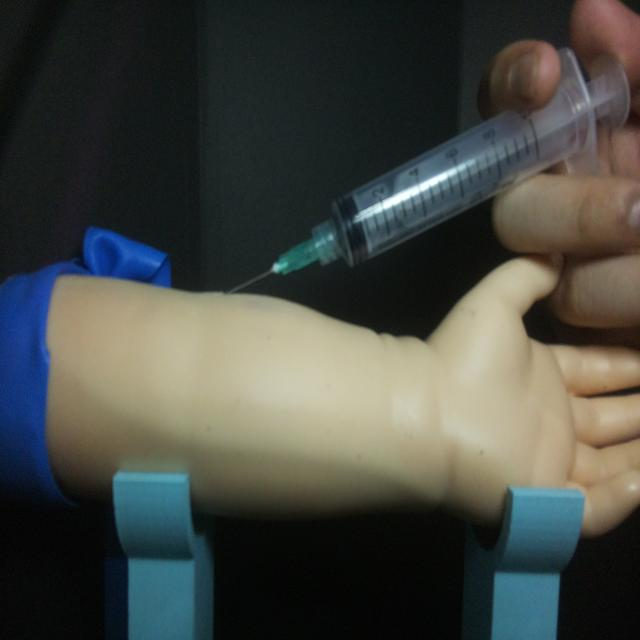21deg: (221, 41, 631, 298)
